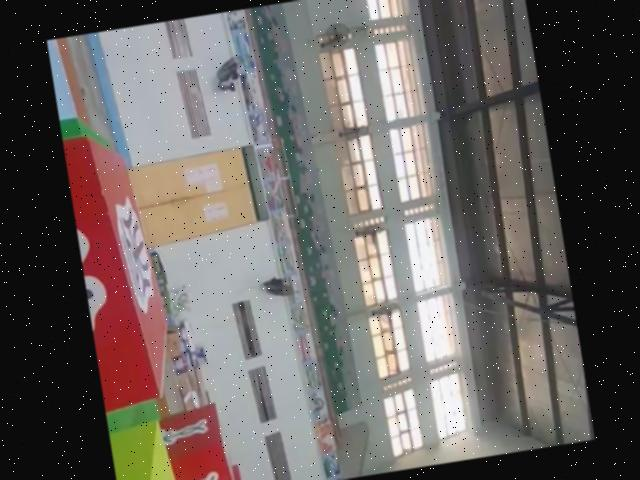R2 Fake: (62, 130, 183, 424)
R2 Real: (155, 400, 233, 480)
